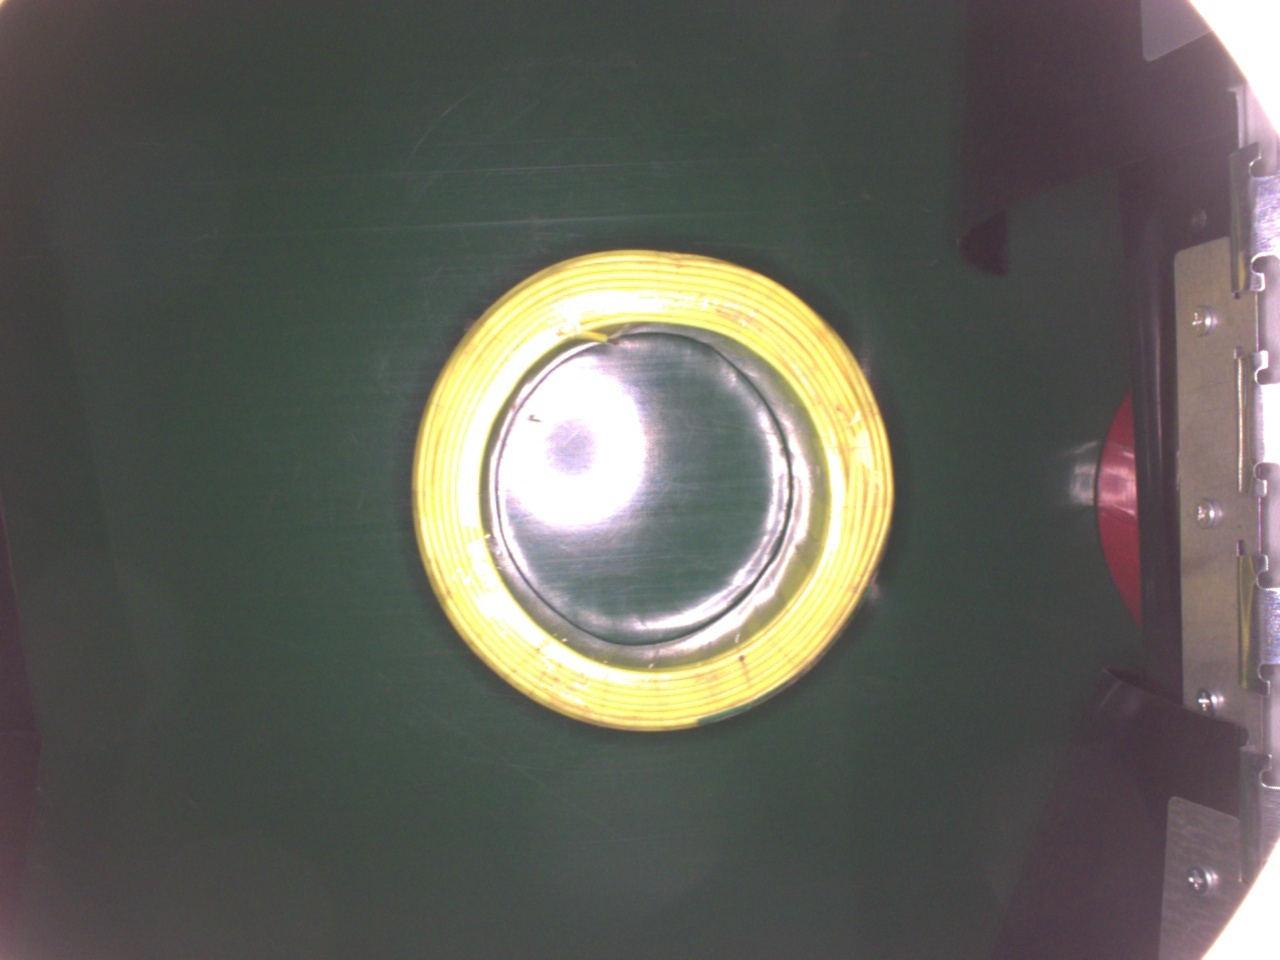yellow: (403, 241, 897, 731)
